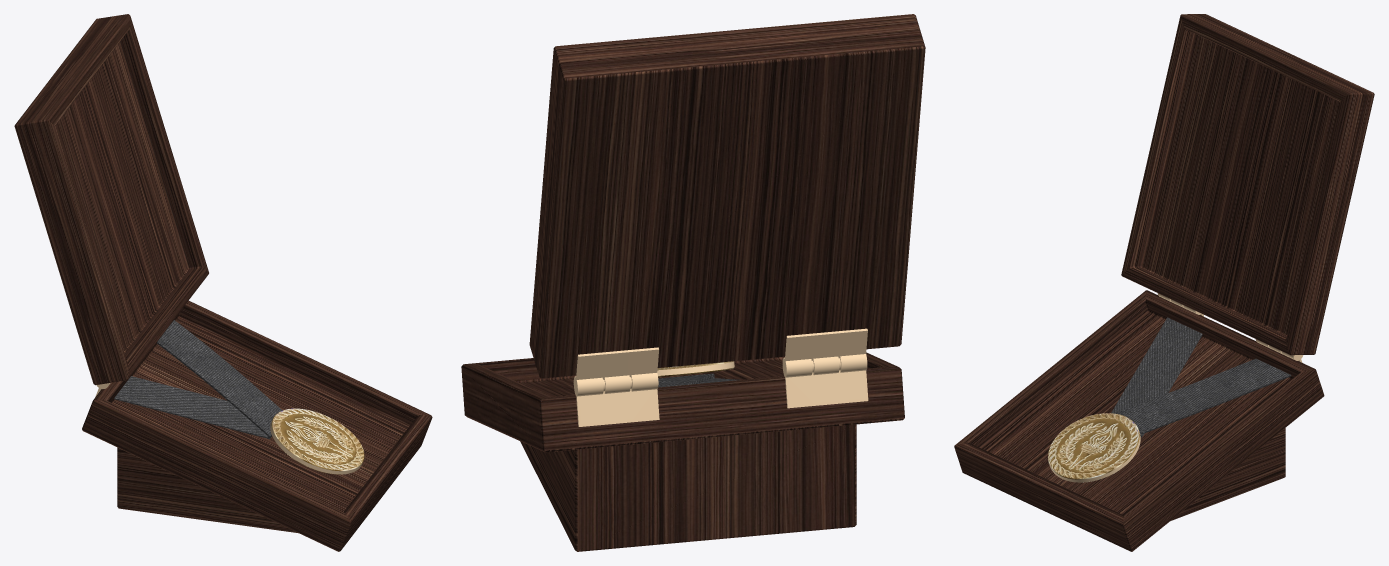
Rendered from trophy-medal.glb.
The picture shows the model from 3 angles, left to right: view 1: azimuth 30°, elevation 25°; view 2: azimuth 150°, elevation 25°; view 3: azimuth 270°, elevation 25°; orthographic projection. The views are drawn at different scales.
Bounding box in the file's own units: 1.74 × 1.74 × 1.76.
Materials: 4 (3 with a texture image).
